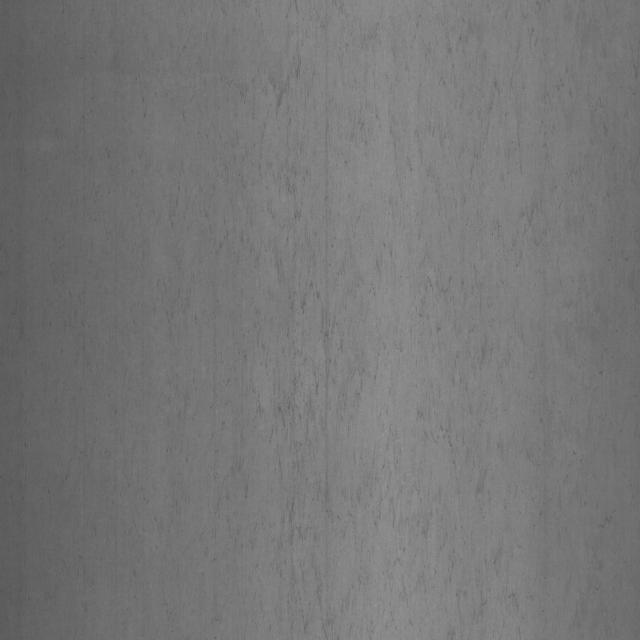inclusion: (374, 28, 628, 629), (238, 16, 365, 603)
